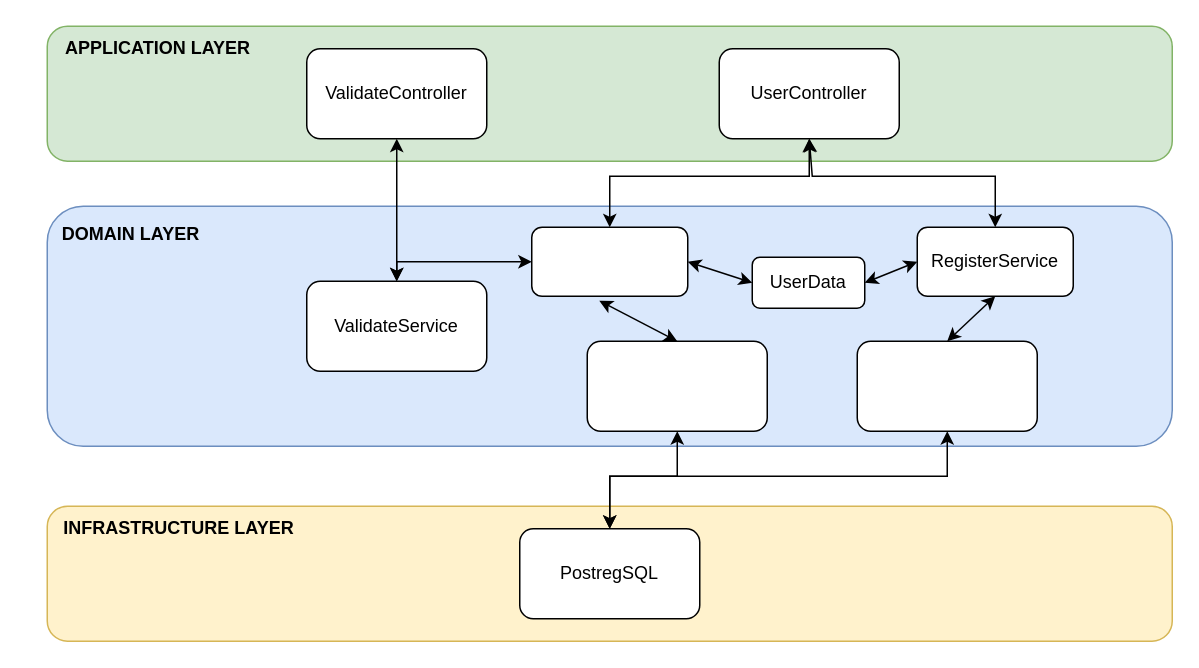
The diagram is 1199 pixels wide and 668 high, and some of its shapes have lost their labels. The shapes that lost their labels are listed below. From the top down, each one's box as (x1, y1, x2, y2) in pixels, then its label:
(530, 226, 688, 296): LoginService
(586, 340, 767, 431): LoginReposetory
(856, 340, 1037, 431): RegisterReposetory
